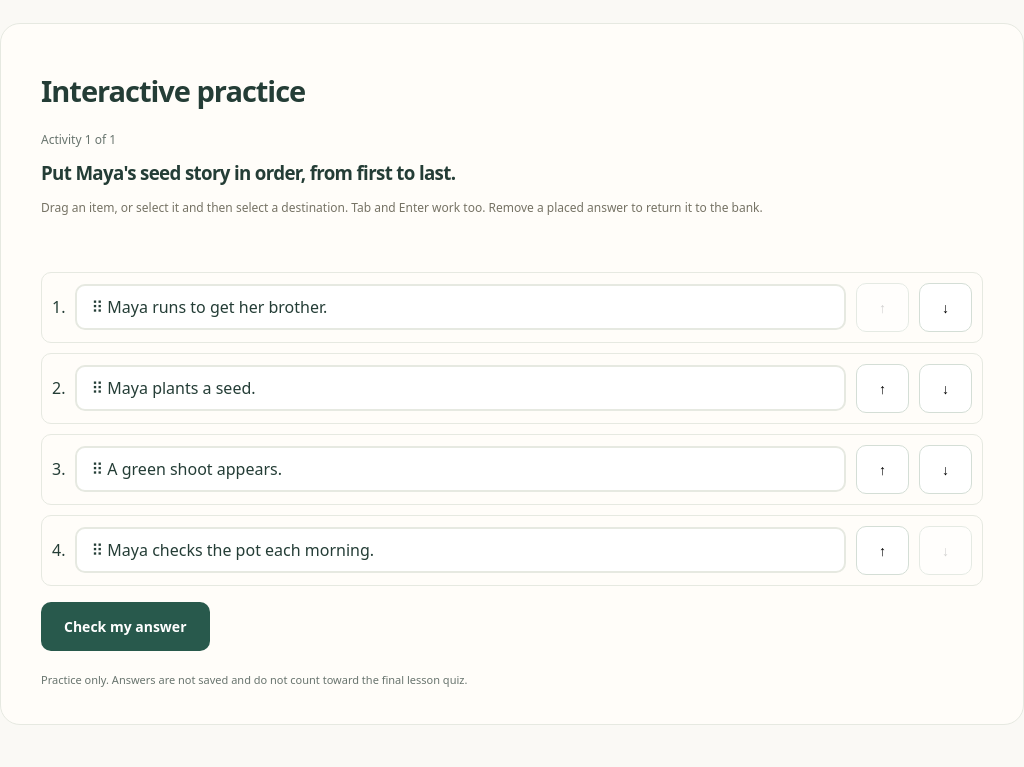
Test case: reusable interactive practice › orders a sequence using accessible move controls
Later steps or results of the test are not shown.
Click the button named "Move up Maya plants a seed.".
click(882, 388)  # box [856,364,909,413]
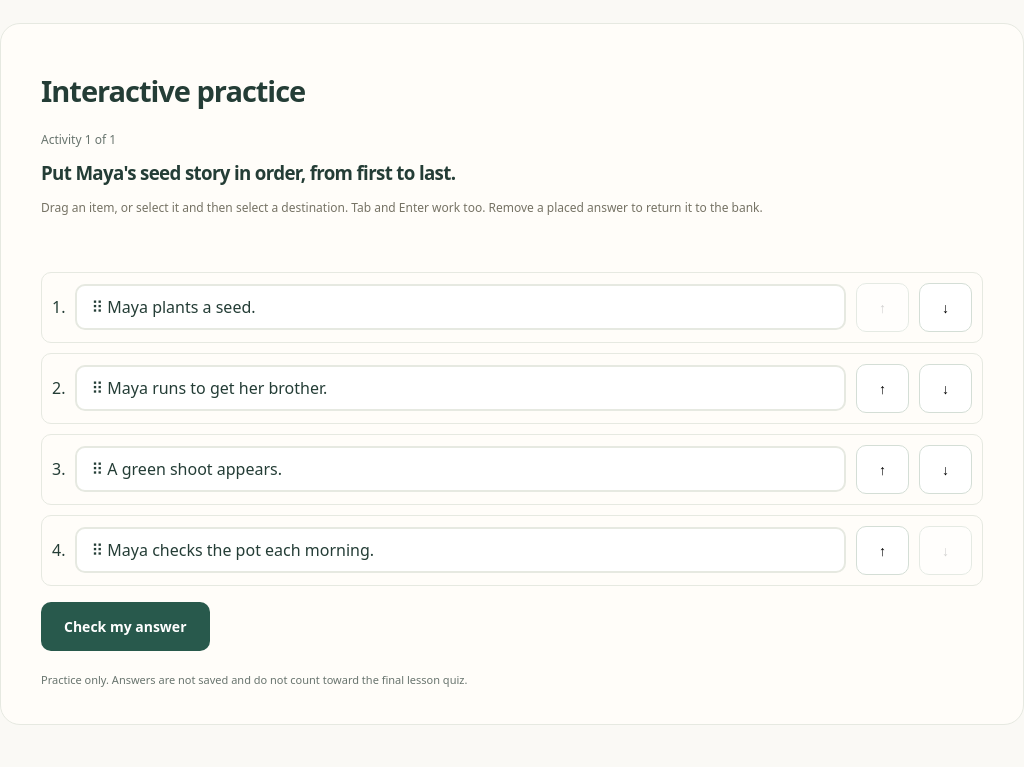
Click the button named "Move up Maya checks the pot each morning.".
click(882, 550)  # box [856,526,909,575]
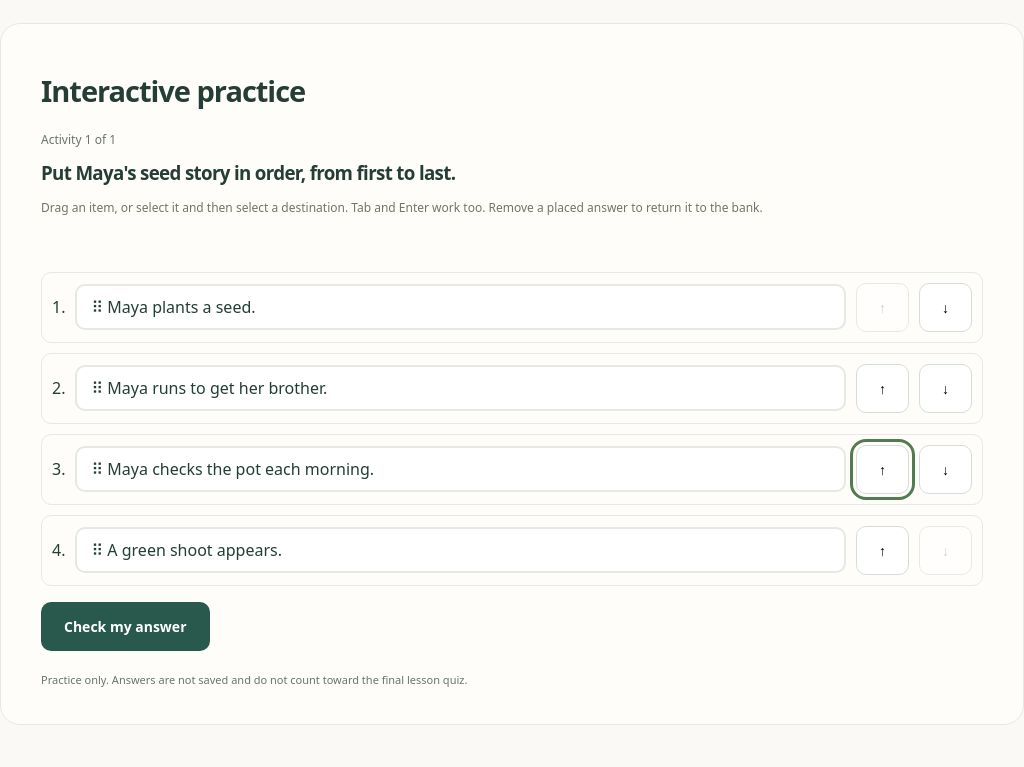
Click the button named "Move up Maya checks the pot each morning.".
click(882, 469)  # box [856,445,909,494]
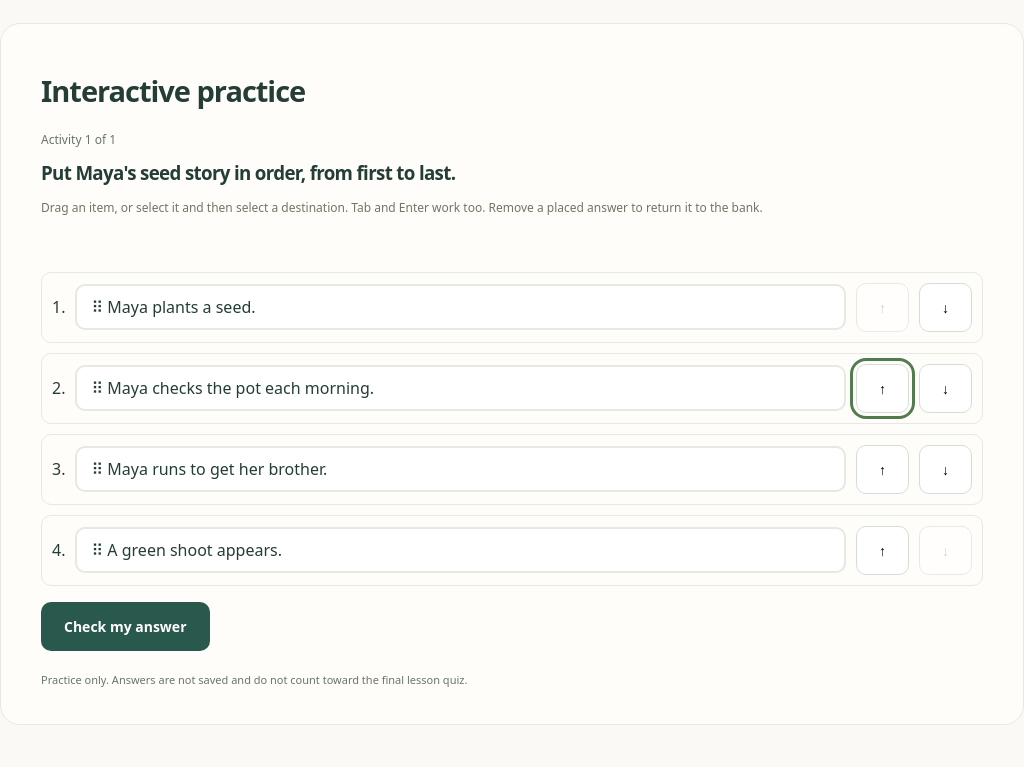
Click the button named "Move up A green shoot appears.".
click(882, 550)  # box [856,526,909,575]
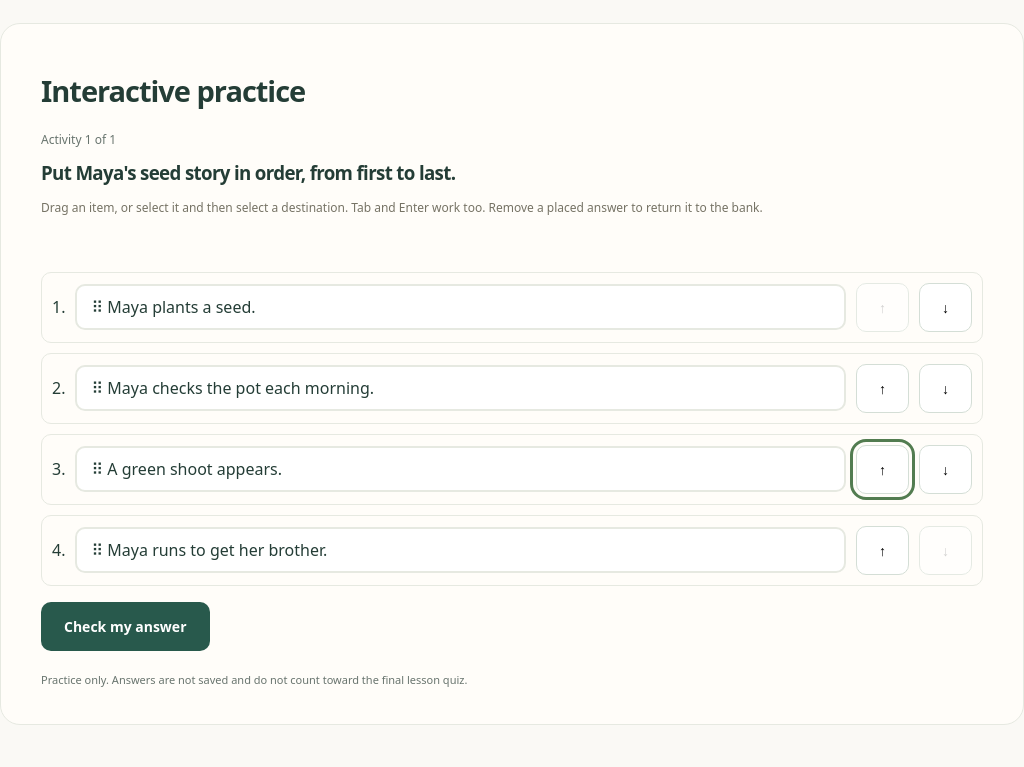
Click the button "Check my answer".
click(125, 626)  # box [41,602,210,651]
(page scrolled)
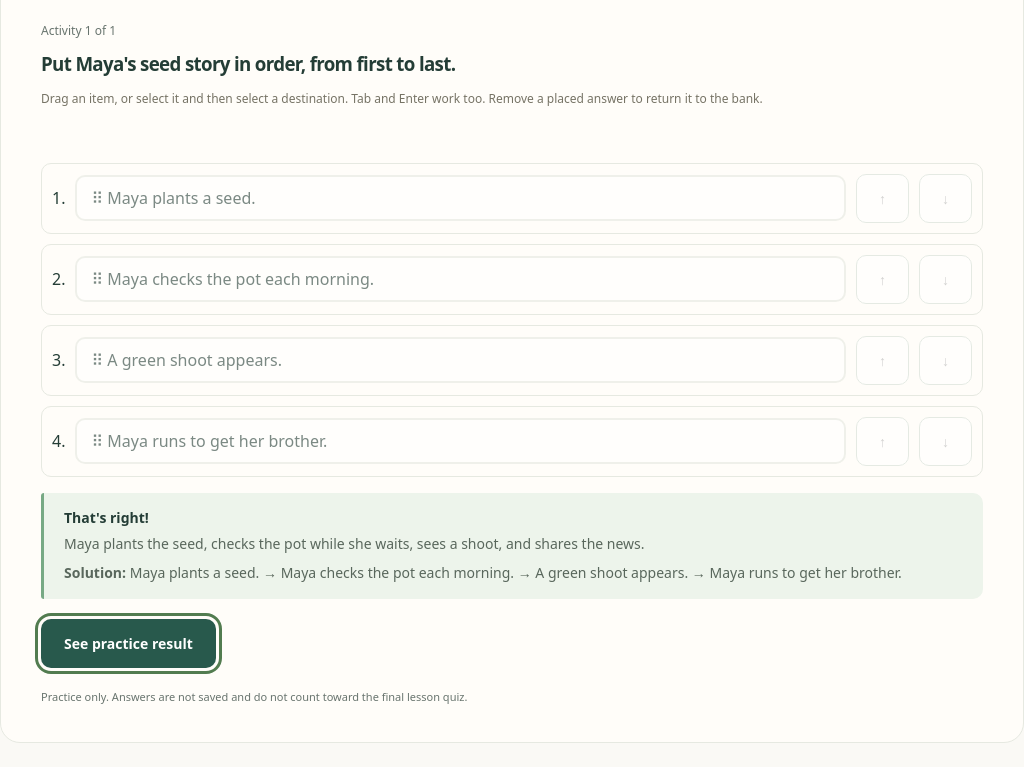
Expected: the text "That's right!" is shown, [64,508,149,527]
